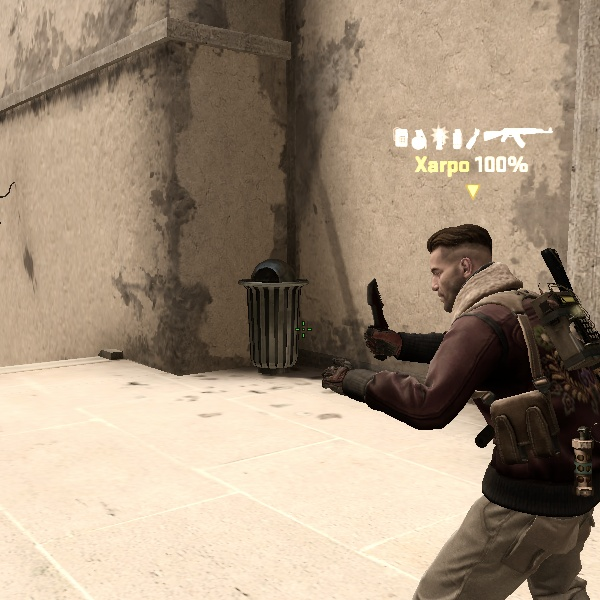t_body: (328, 212, 594, 597)
t_head: (407, 213, 513, 320)
